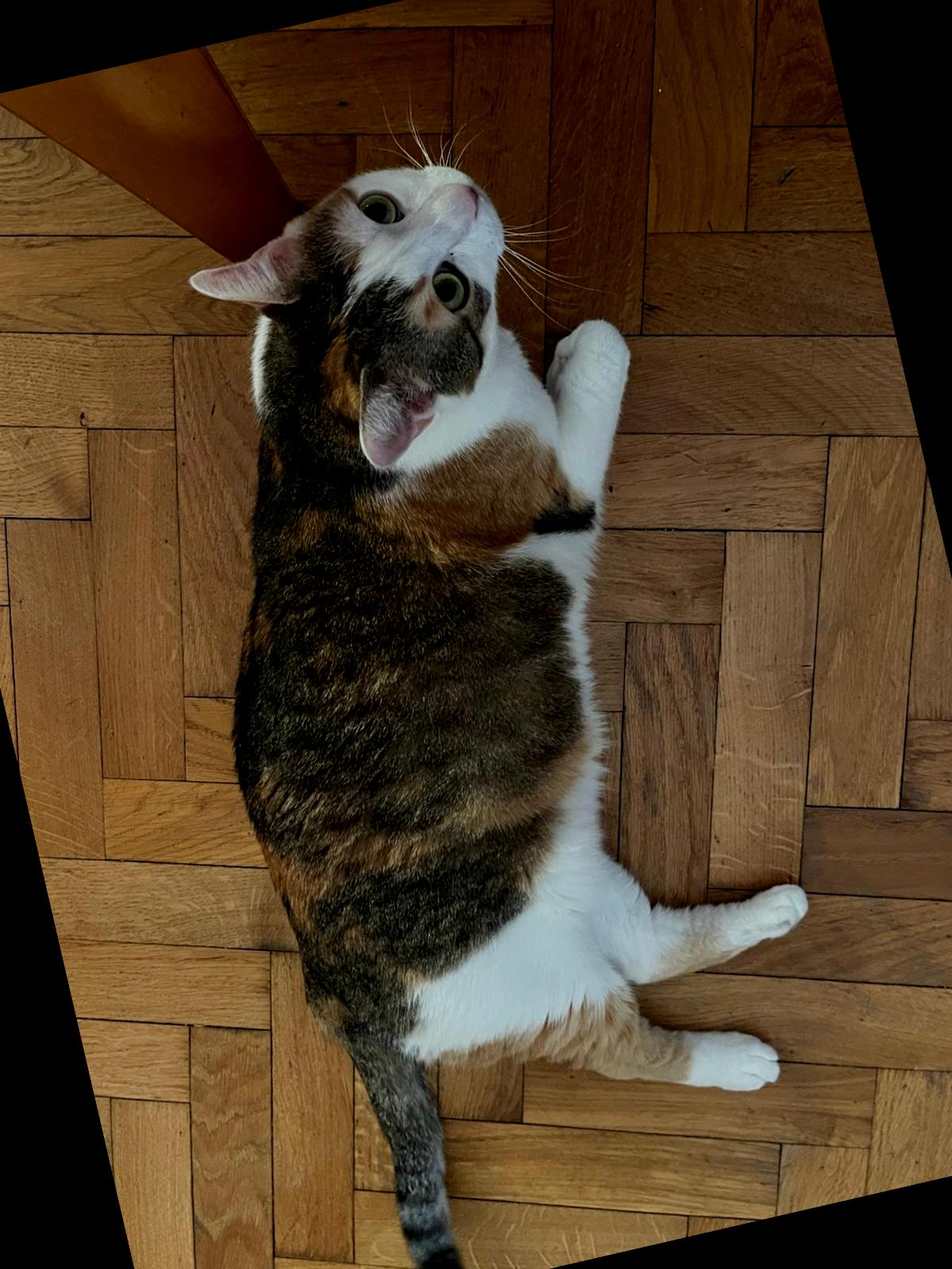macka: (106, 110, 875, 1269)
